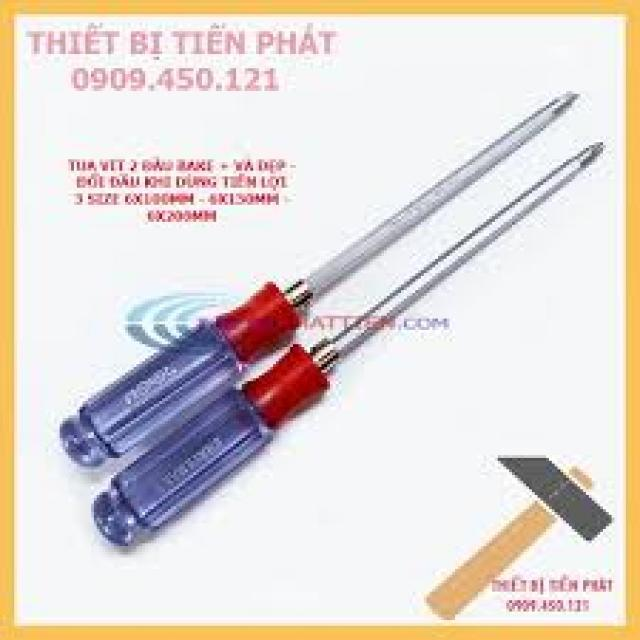screwdriver: (90, 136, 608, 552), (58, 84, 584, 468)
